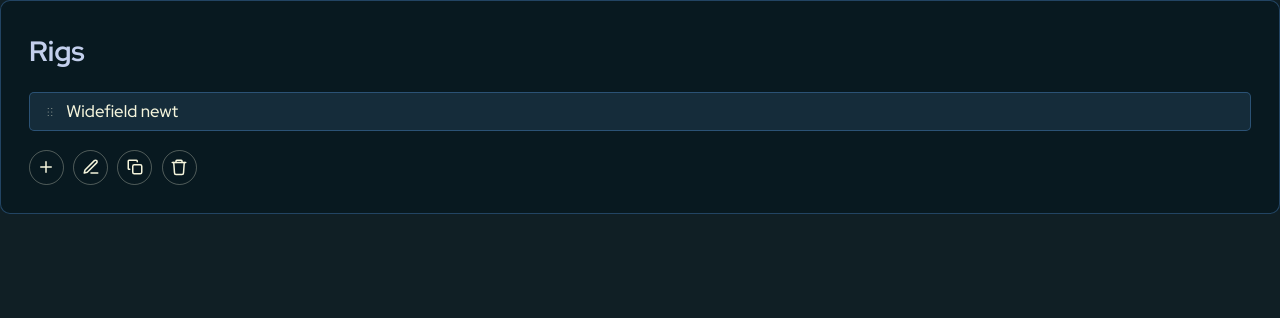
duplicating › duplicating a copy names it after that copy, not the original
Check: the number of options is 1, box [29,92,1251,131]
Click the button named "duplicate rig" at (135, 167), box [118,150,152,185]
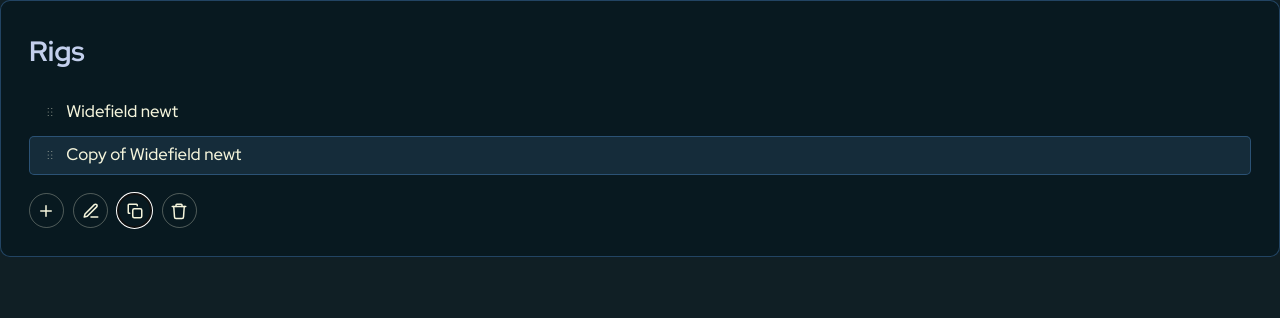
Check: the number of options is 2, box [29,92,1251,131]; [29,136,1251,174]
Click the button named "duplicate rig" at (135, 211), box [118,193,152,228]
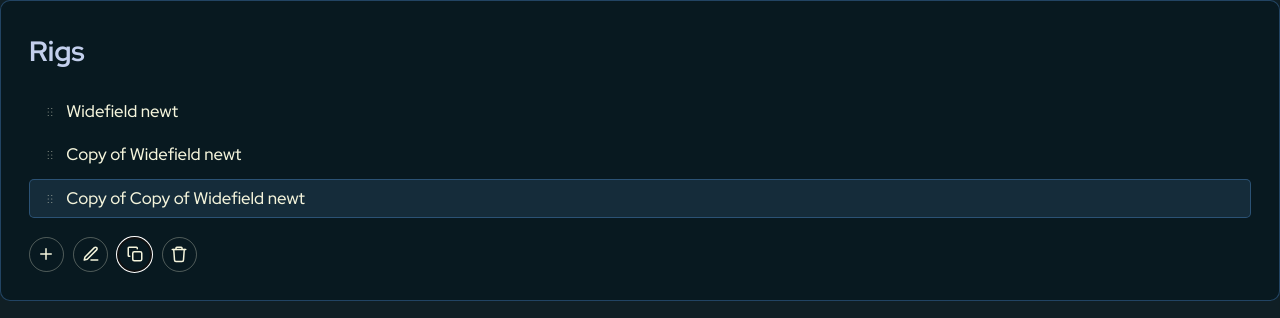
Check: the text "Copy of Copy of Widefield newt" is shown, box [66,188,305,210]
